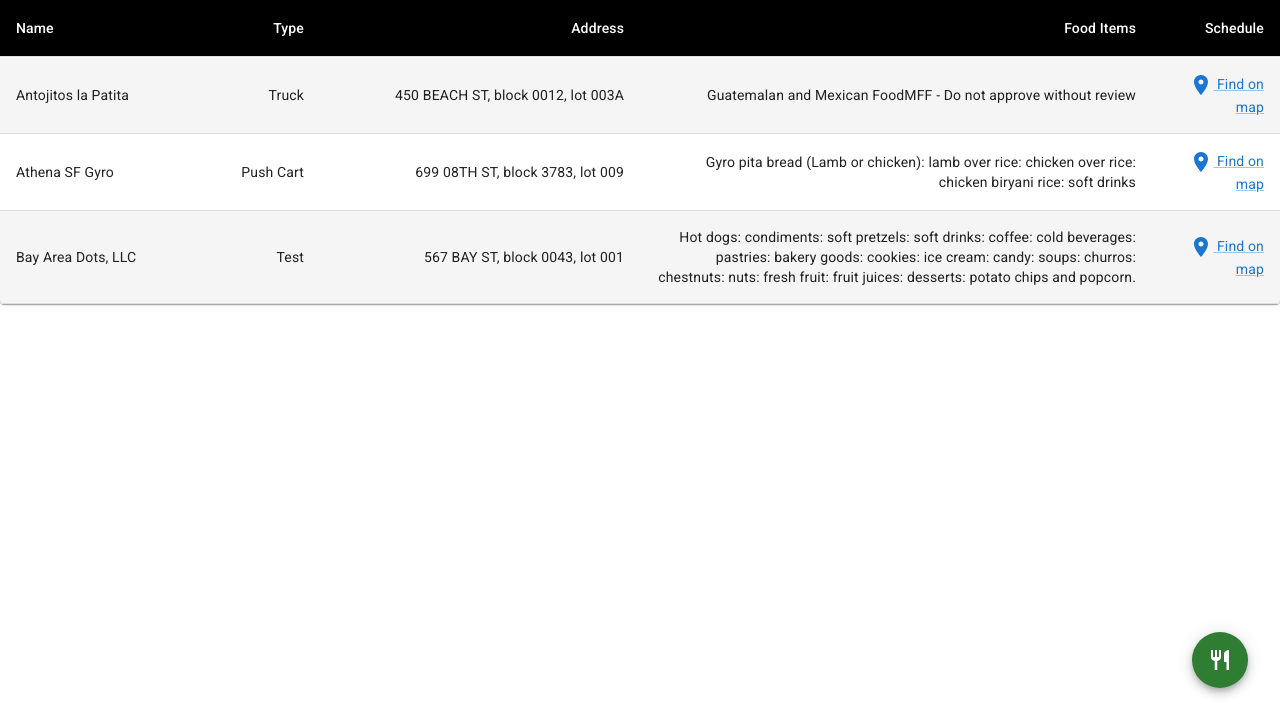
Test case: FoodFacilitiesList component › randomizer functionality works correctly
// open dialog
Step 1. Click the button with test id "randomizer-button" → [1220, 660], box [1192,632,1248,688]
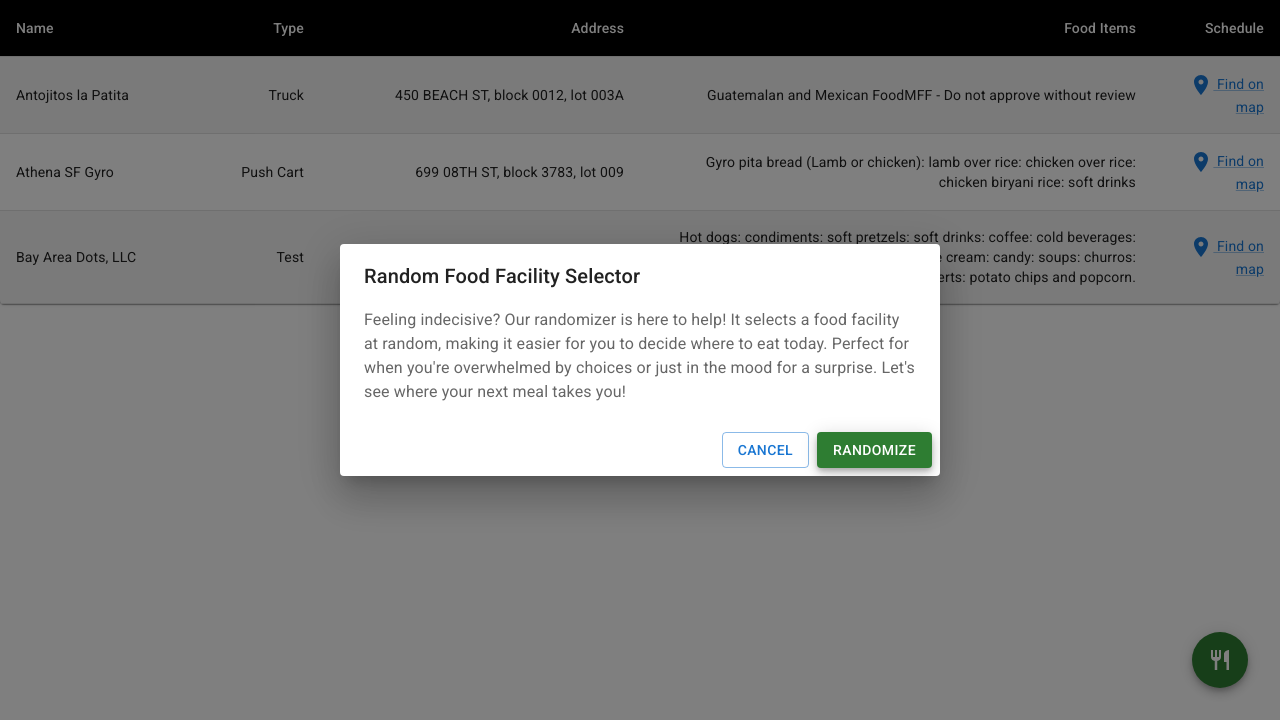
Expected: the dialog is shown, [340,244,940,476]
// close dialog
Step 2. Click the button "Cancel" → [765, 450], box [722,432,809,468]
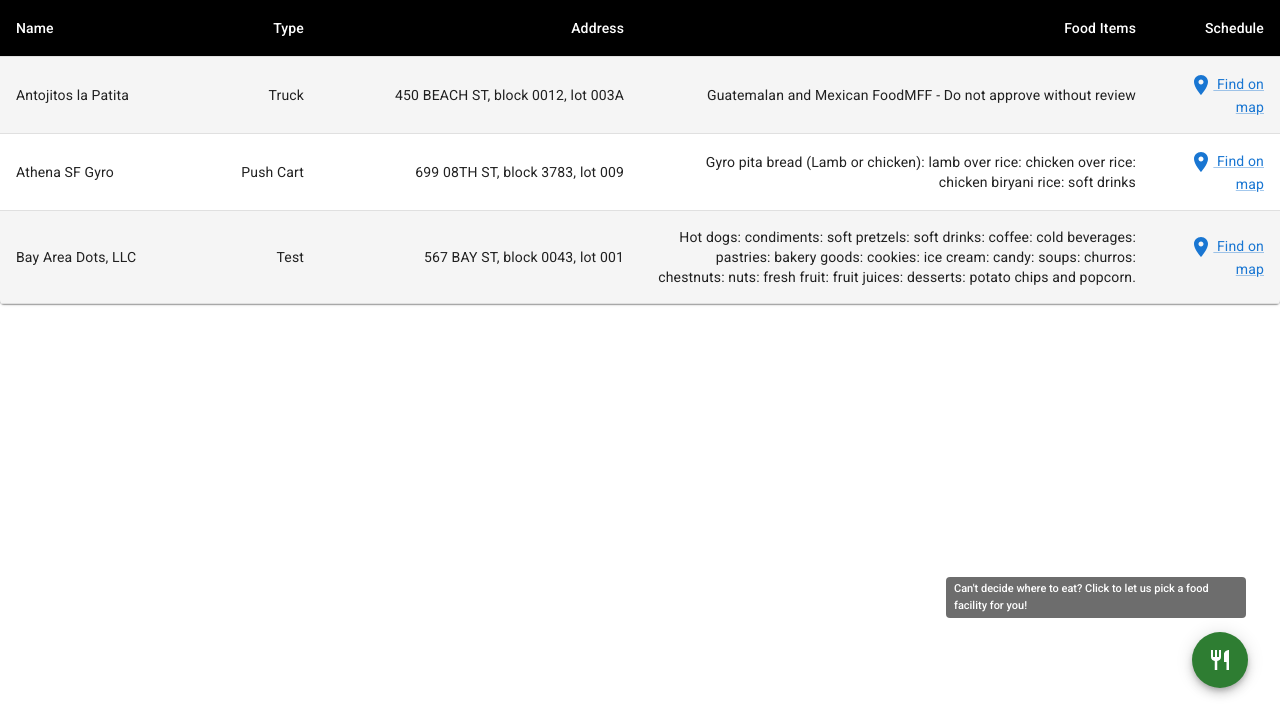
Expected: the dialog is gone
// open dialog and trigger randomizer
Step 3. Click the button with test id "randomizer-button" → [1220, 660], box [1192,632,1248,688]
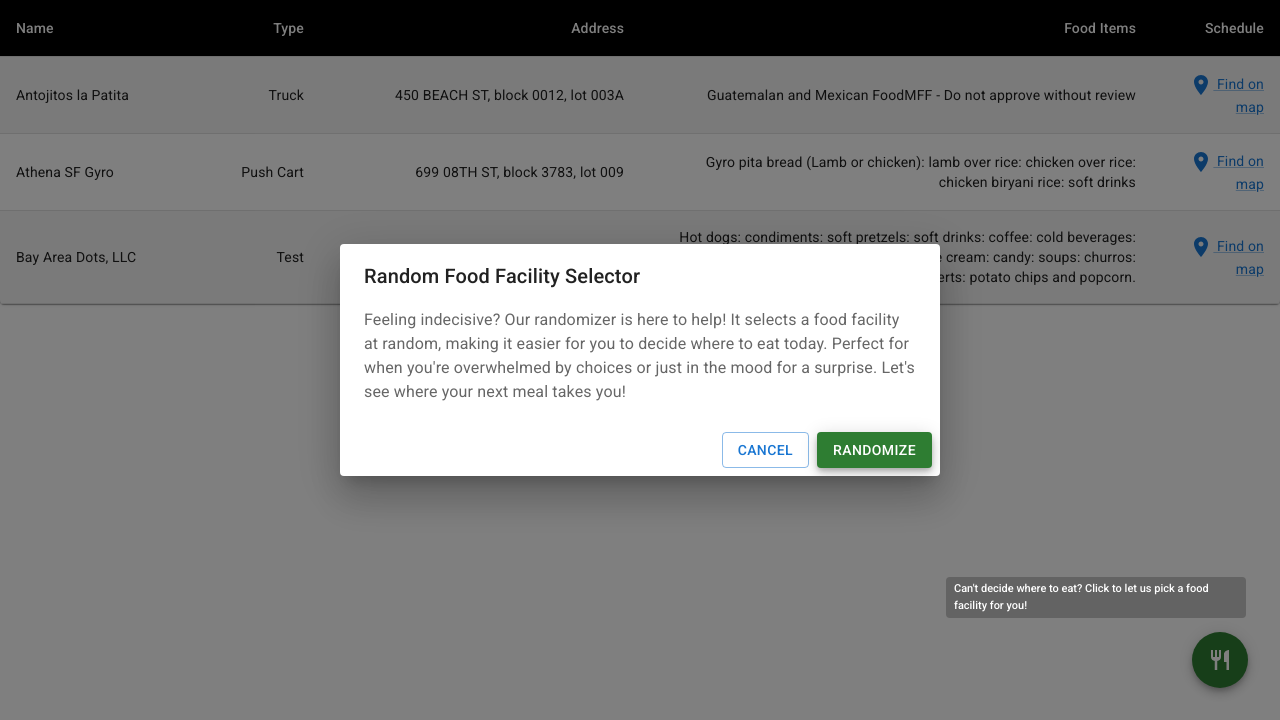
Expected: the heading "Random Food Facility Selector" is shown, [364,264,640,288]
Step 4. Click the button "Randomize" → [874, 450], box [817,432,932,468]
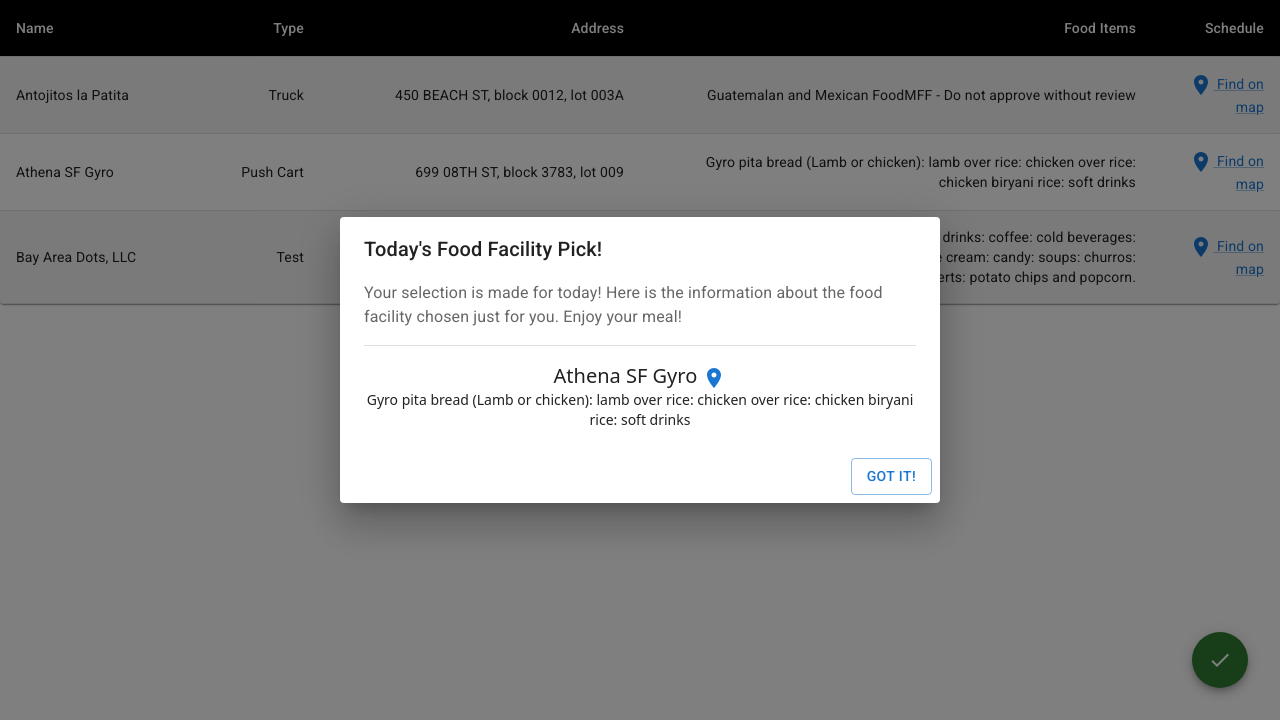
Expected: the heading "Today's Food Facility Pick!" is shown, [364,237,602,261]
Expected: the element with test id "selection-name" is shown, [554,362,726,390]
Step 5. Click the button "Got it!" → [891, 477], box [851,458,932,495]
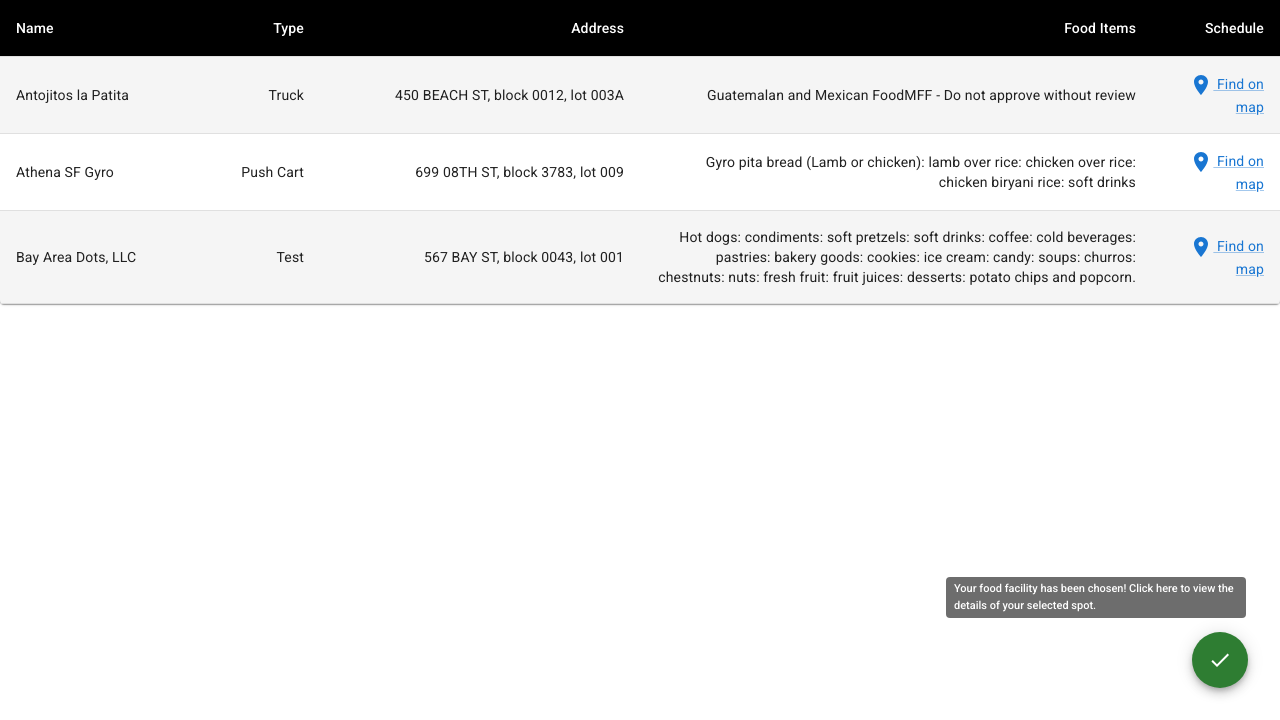
Expected: the dialog is gone
Step 6. Hover over the button with test id "randomizer-button" → [1220, 660], box [1192,632,1248,688]
Expected: the text "Your food facility has been chosen! Click here to view the details of your selected spot." is shown, [954,582,1234,612]
Step 7. Click the button with test id "randomizer-button" → [1220, 660], box [1192,632,1248,688]
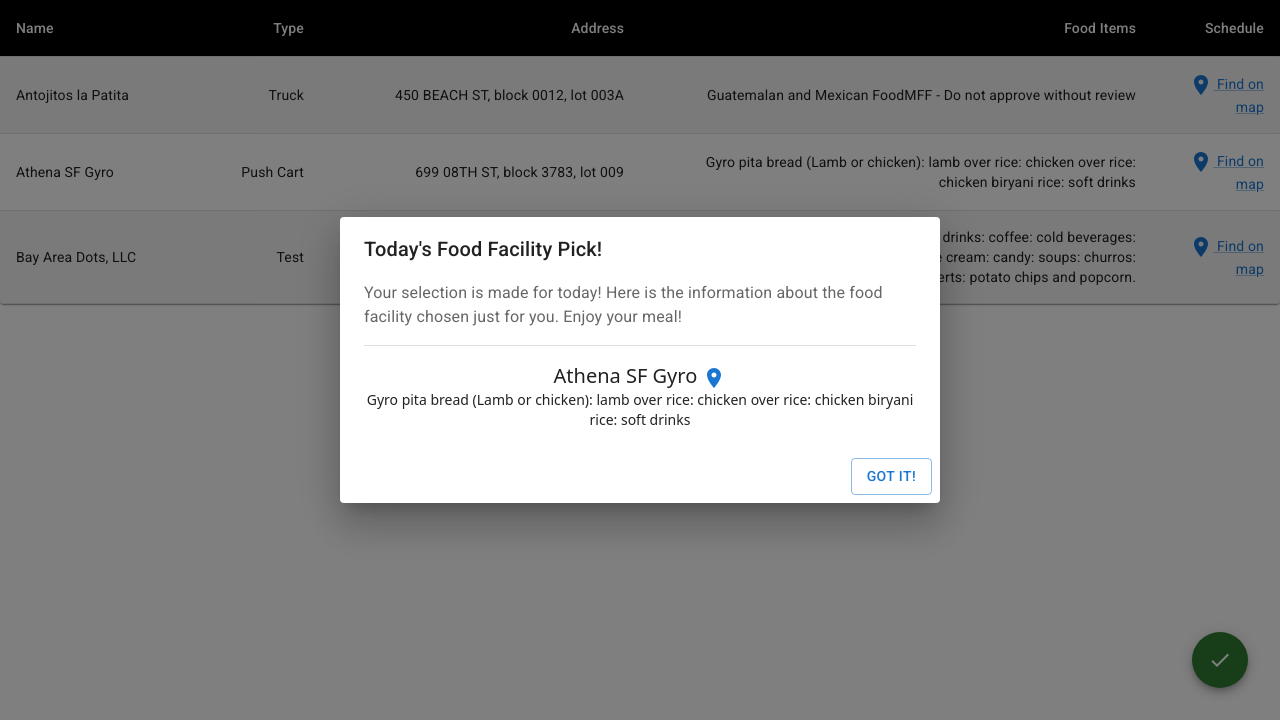
Expected: the heading "Today's Food Facility Pick!" is shown, [364,237,602,261]
Expected: the element with test id "selection-name" is shown, [554,362,726,390]
